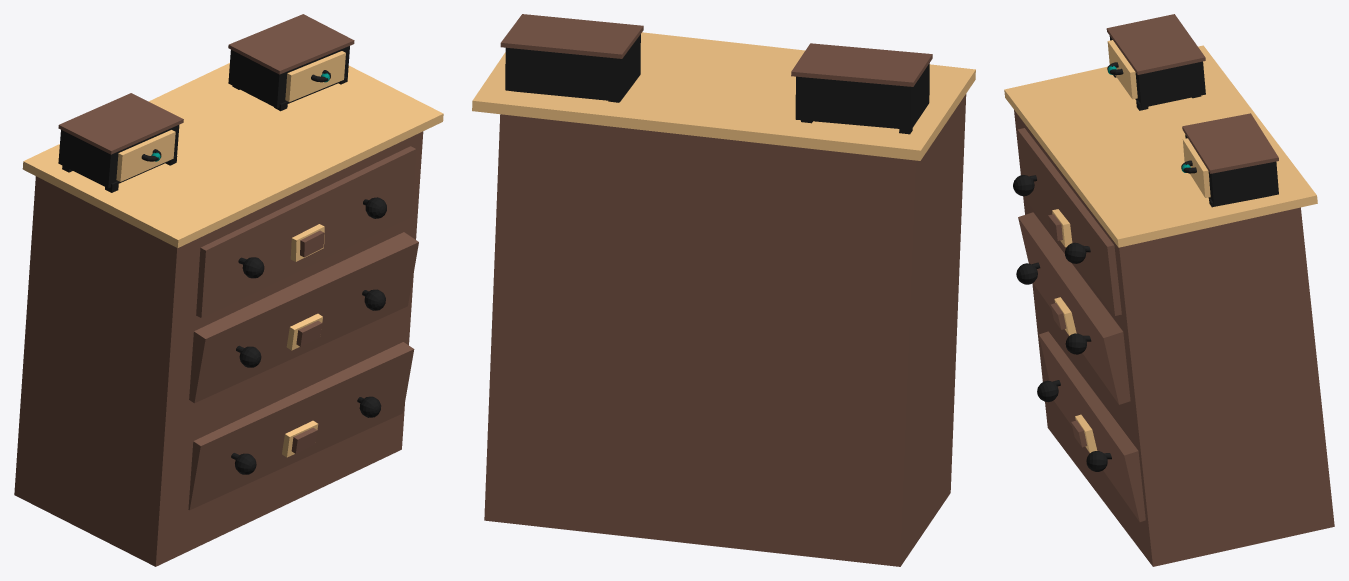
File: drawer-by-jie-gu-f_y9TYZuAad.glb
3 renders of one model, left to right at view 1: azimuth 30°, elevation 25°; view 2: azimuth 150°, elevation 25°; view 3: azimuth 270°, elevation 25°, orthographic. The views are drawn at different scales.
Parts seen in each view (by area): view 1: group1318166041; view 2: group1318166041; view 3: group1318166041.
Boxes of the visible parts, x1,y1,x2,y2 form: group1318166041: [14, 14, 443, 566]; group1318166041: [472, 14, 975, 566]; group1318166041: [1004, 14, 1334, 566].
Bounding box in the file's own units: 0.9744 × 0.998 × 0.7489.
